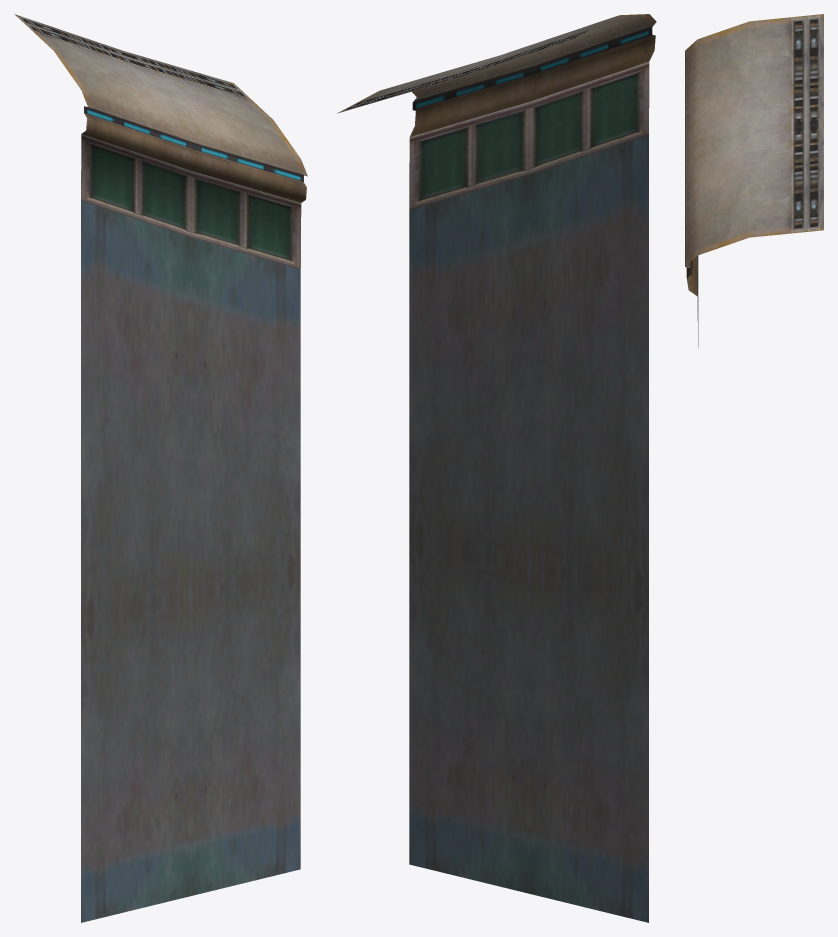
Rendered from zc_lekesigang_pinjieqiang06.FBX.
3 renders of one model, left to right at view 1: azimuth 30°, elevation 25°; view 2: azimuth 150°, elevation 25°; view 3: azimuth 270°, elevation 25°, orthographic. The views are drawn at different scales.
Parts seen in each view (by area): view 1: zc_lekesigang_pinjieqiang06; view 2: zc_lekesigang_pinjieqiang06; view 3: zc_lekesigang_pinjieqiang06.
Part boxes in pixels (box(x1,y1,x2,y2)): zc_lekesigang_pinjieqiang06: box(14, 14, 307, 922); zc_lekesigang_pinjieqiang06: box(337, 14, 656, 922); zc_lekesigang_pinjieqiang06: box(685, 14, 823, 347).
Size of the model in its own units: 318 by 1190 by 185.
Materials: 1 (1 with a texture image).
